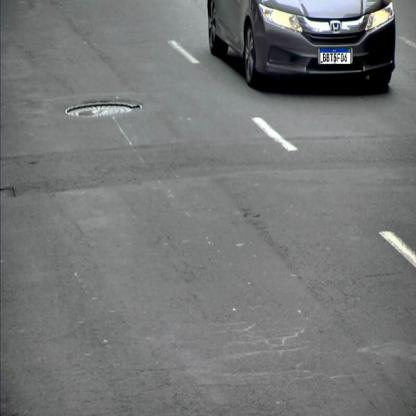PlacaM: (320, 48, 351, 64)
